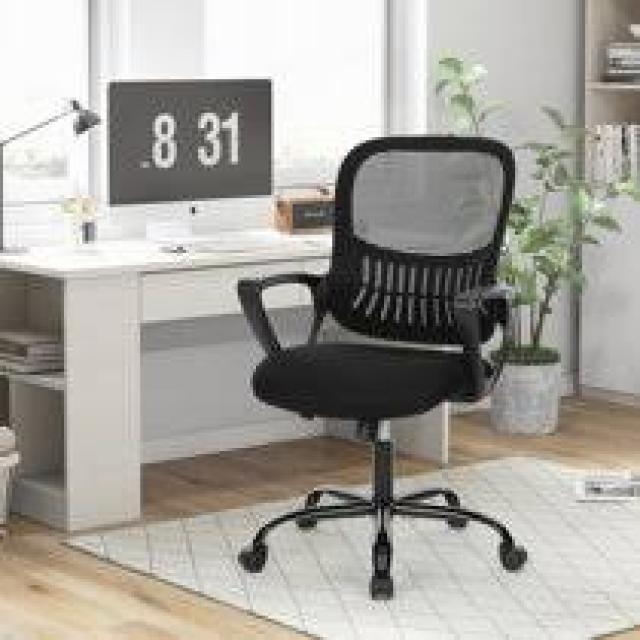chair: (122, 93, 600, 637)
